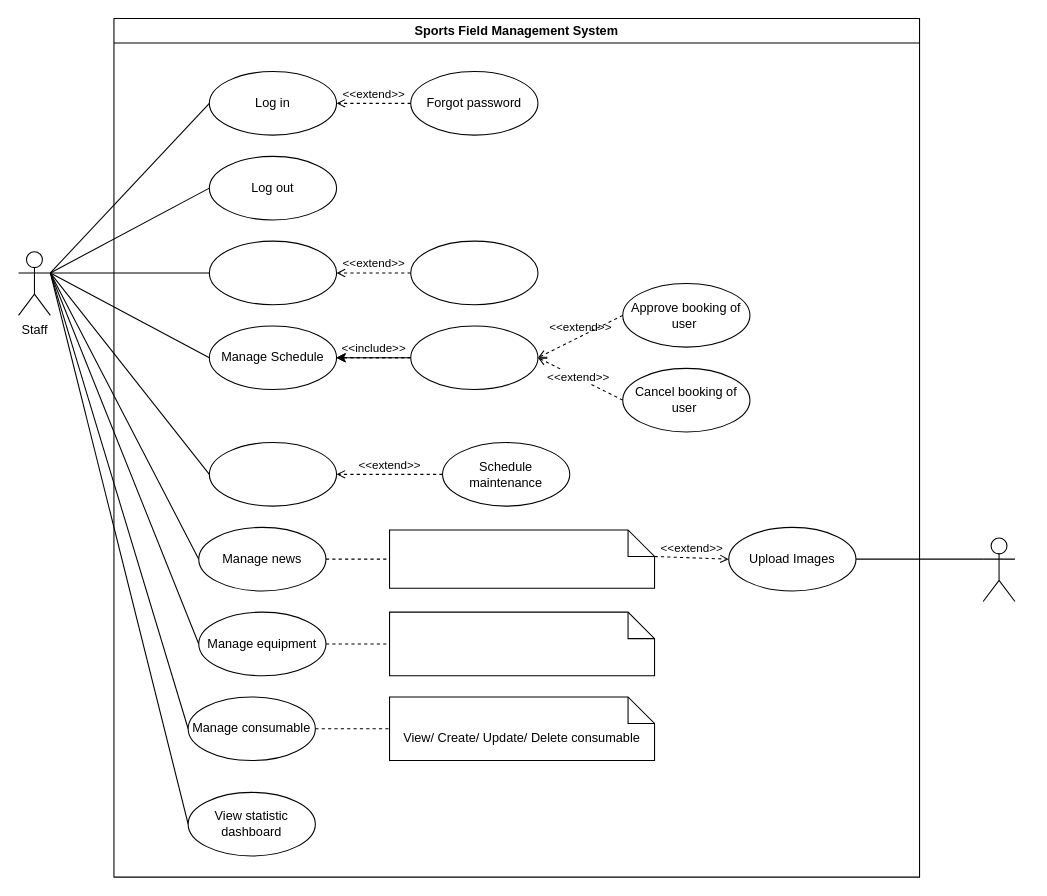
The diagram is 1047 pixels wide and 896 high, and some of its shapes have lost their labels. Each missing label, with the centre of its shape:
Change password: the point at 474,272
Cloudinary: the point at 998,569
Manage booking of users: the point at 474,357
Manage sports field: the point at 272,473
User profile: the point at 272,272
View/ Create/ Update/ Delete equipment: the point at 521,643
View/ Create/ Update/ Delete news: the point at 521,558
